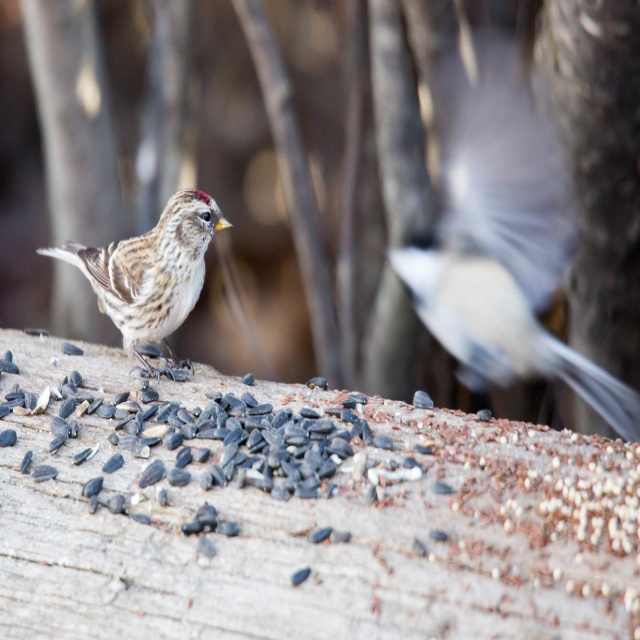Sparrow: (384, 62, 640, 442), (36, 188, 234, 384)
